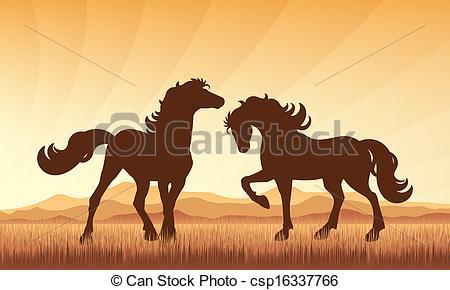horse: (24, 70, 227, 244), (224, 95, 412, 243)
